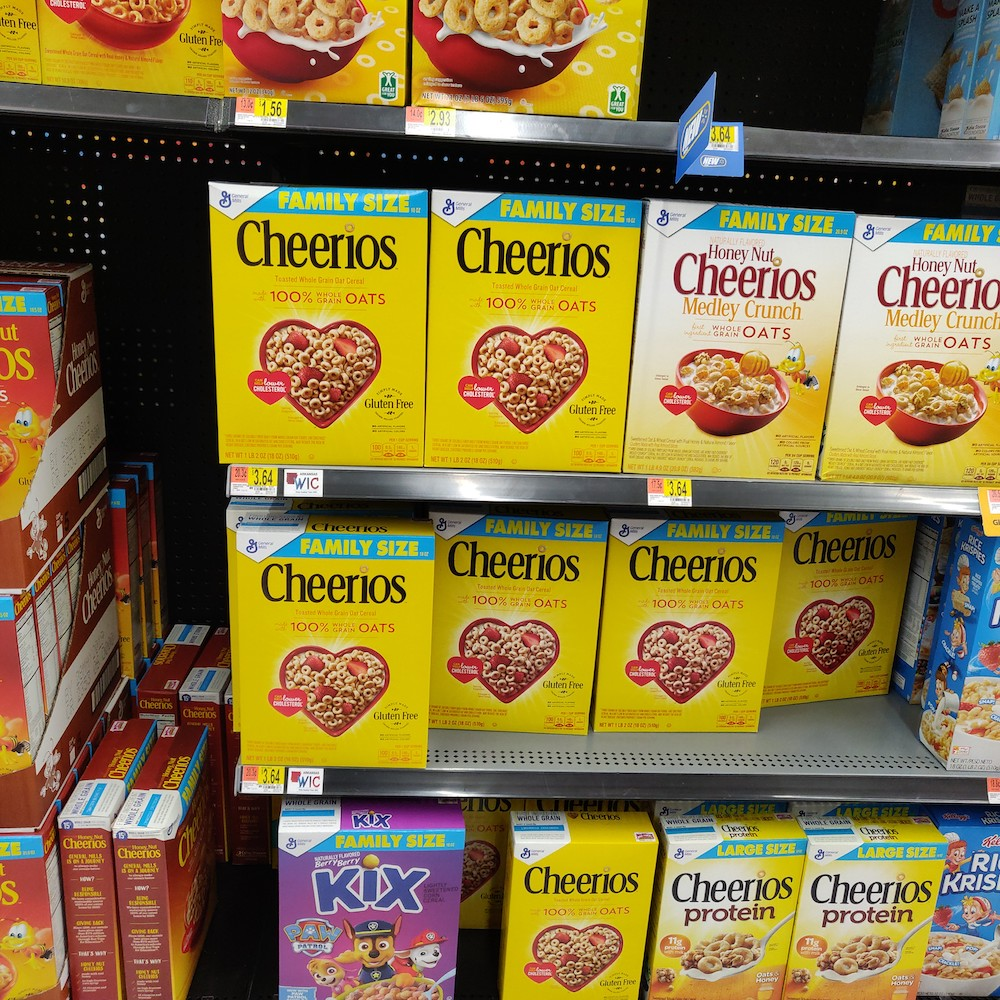Kix Berry -568919964: (270, 827, 457, 1000)
